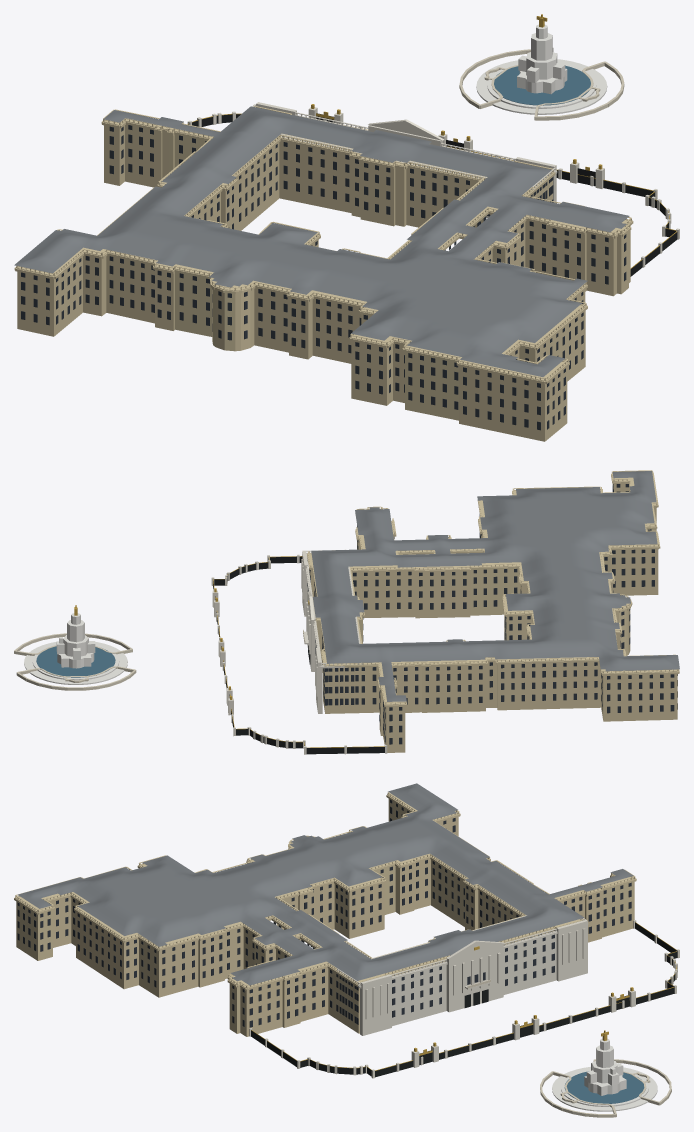
File: buckingham-site.glb
3 views of the same model, one above another, from view 1: azimuth 30°, elevation 25°; view 2: azimuth 150°, elevation 25°; view 3: azimuth 270°, elevation 25° (orthographic). The views are drawn at different scales.
Bounding box in the file's own units: 265 × 27.71 × 264.
